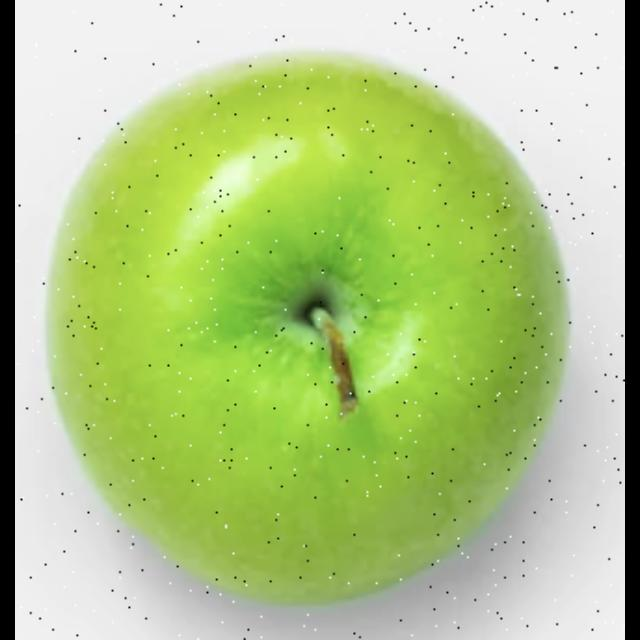Apel Segar: (34, 36, 586, 618)
